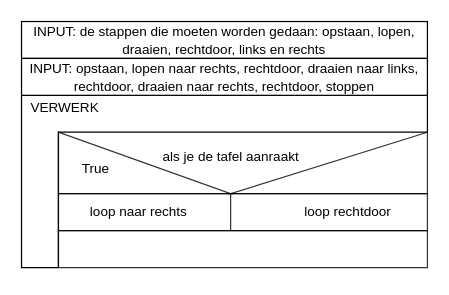
Some shapes in this 449 by 295 pixel diagram are drawn without their labels. Each missing label, with the centre of its shape:
"de deur" goes at (242,248).
"False" goes at (328,162).
